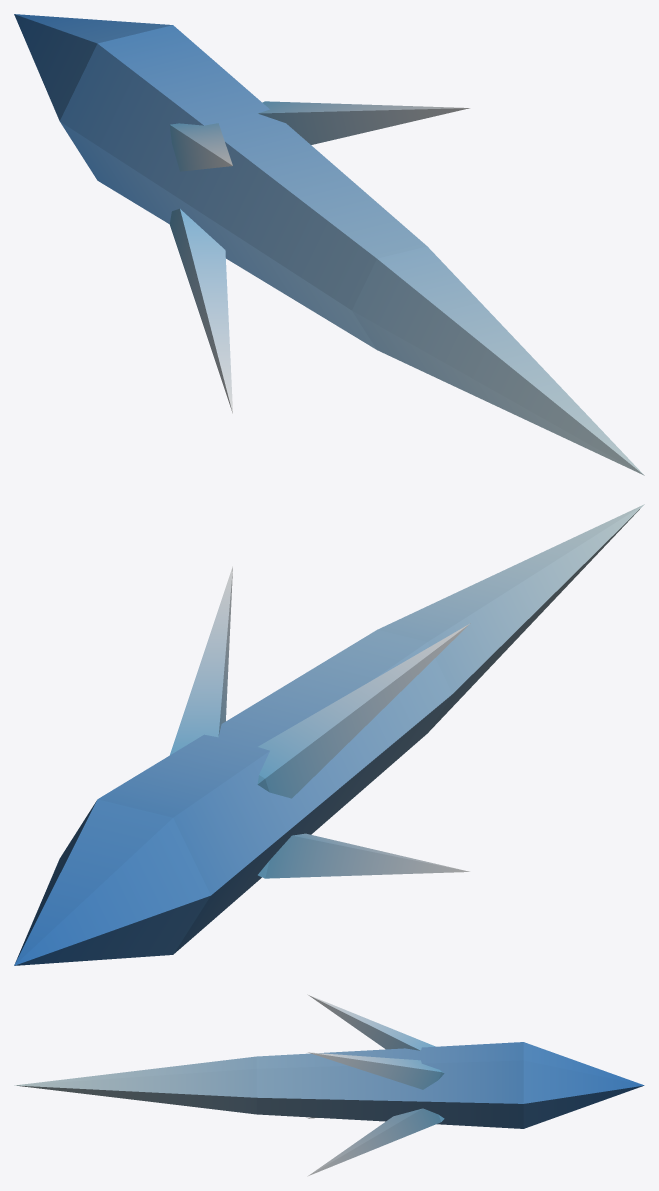
The model's file is proj_ice_lance.glb.
3 renders of one model, top to bottom at view 1: azimuth 30°, elevation 25°; view 2: azimuth 150°, elevation 25°; view 3: azimuth 270°, elevation 25°, orthographic. The views are drawn at different scales.
Parts seen in each view (by area): view 1: proj_ice_lance; view 2: proj_ice_lance; view 3: proj_ice_lance.
Part boxes in pixels (box(x1,y1,x2,y2)): proj_ice_lance: box(14, 14, 644, 475); proj_ice_lance: box(14, 504, 644, 965); proj_ice_lance: box(14, 994, 644, 1176).
Size of the model in its own units: 0.2828 by 0.2828 by 1.3.
